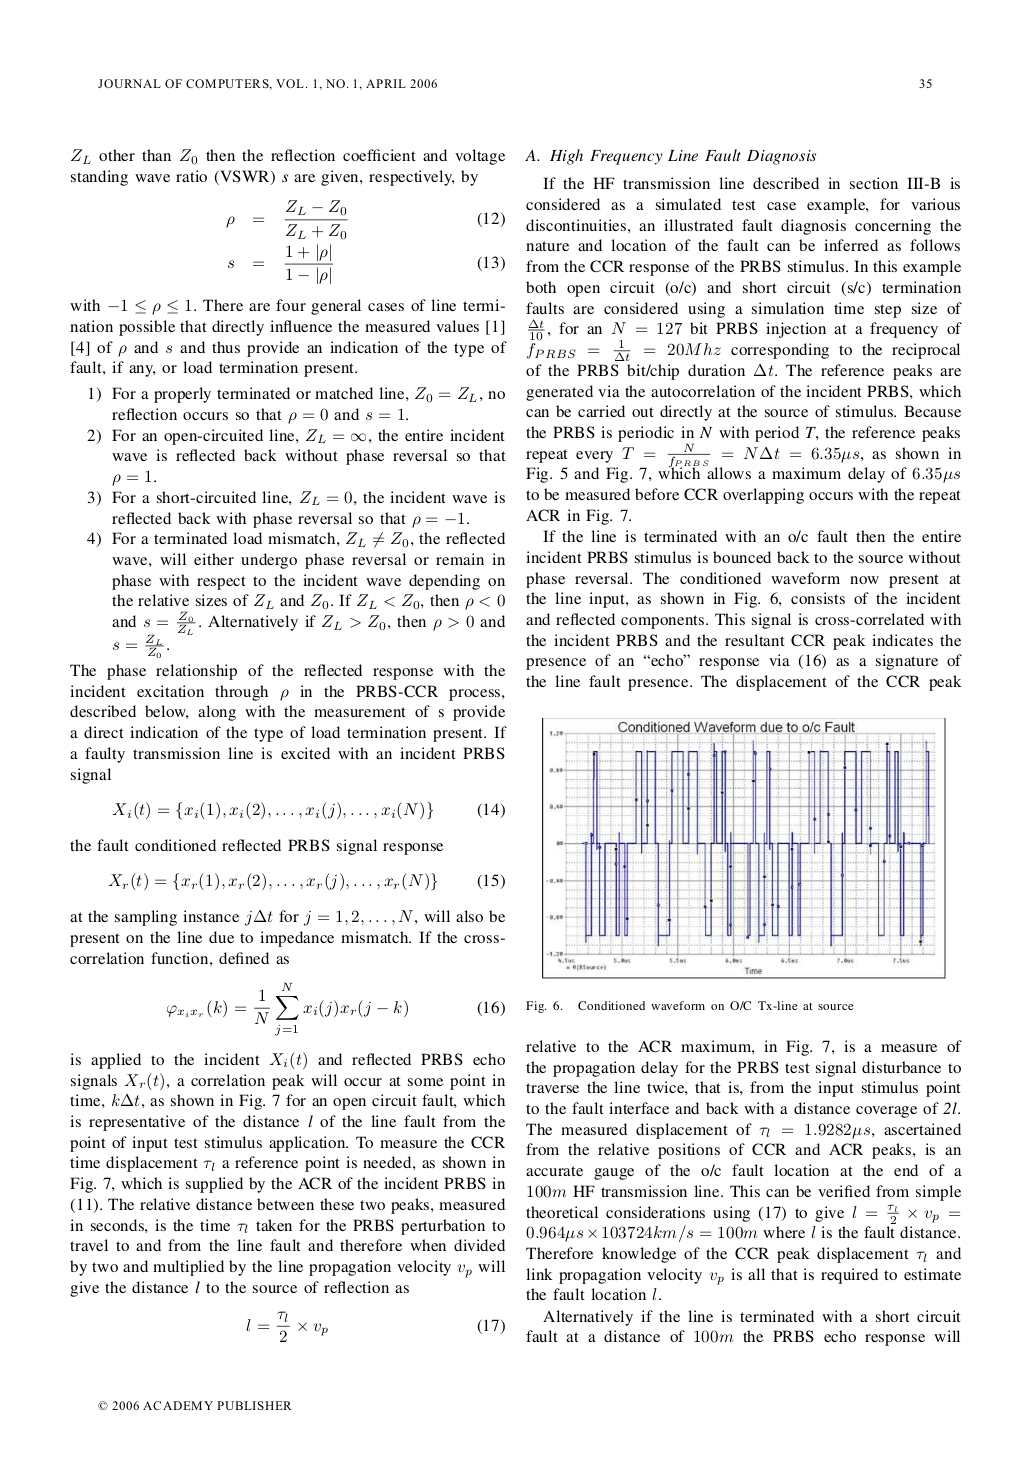figure: (542, 717, 945, 979)
formula: (166, 982, 504, 1035), (228, 243, 504, 286), (227, 199, 504, 240), (245, 1310, 504, 1342), (108, 872, 504, 891), (112, 801, 504, 820), (113, 635, 168, 658)
